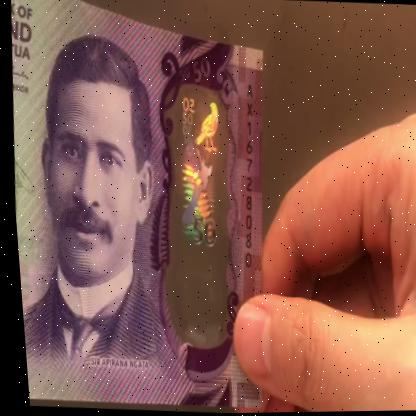50F: (164, 90, 234, 326)
